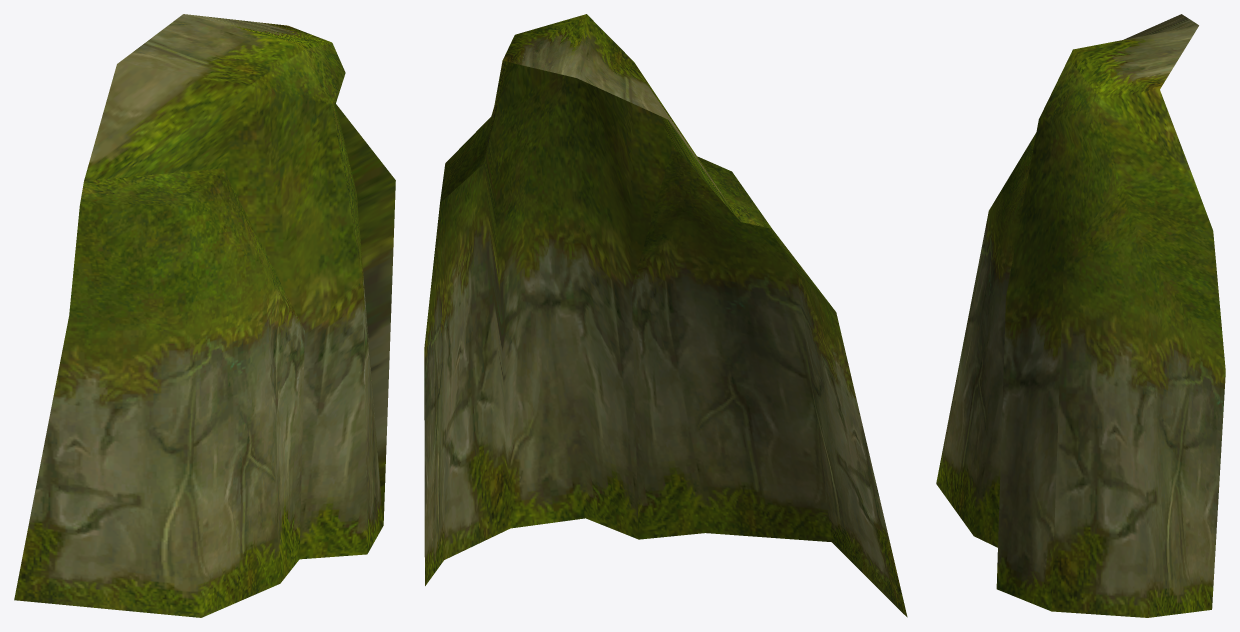
The model's file is environment_stone_shanya_001_g.FBX.
The picture shows the model from 3 angles, left to right: view 1: azimuth 30°, elevation 25°; view 2: azimuth 150°, elevation 25°; view 3: azimuth 270°, elevation 25°; orthographic projection. The views are drawn at different scales.
Visible parts, largest first — view 1: environment_stone_shanya_001_g; view 2: environment_stone_shanya_001_g; view 3: environment_stone_shanya_001_g.
Part boxes in pixels (x1,y1,x2,y2): environment_stone_shanya_001_g: [14, 14, 395, 617]; environment_stone_shanya_001_g: [424, 14, 907, 617]; environment_stone_shanya_001_g: [936, 14, 1225, 617].
Bounding box in the file's own units: 233 × 288 × 145.
Materials: 1 (1 with a texture image).
